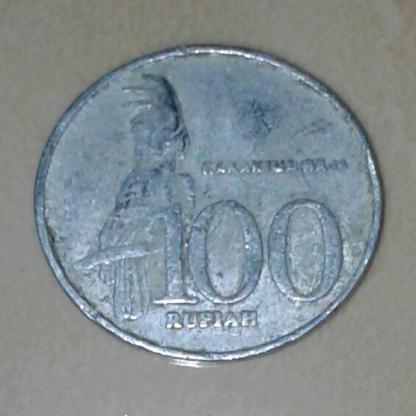coin_100_e1999: (27, 32, 389, 370)
